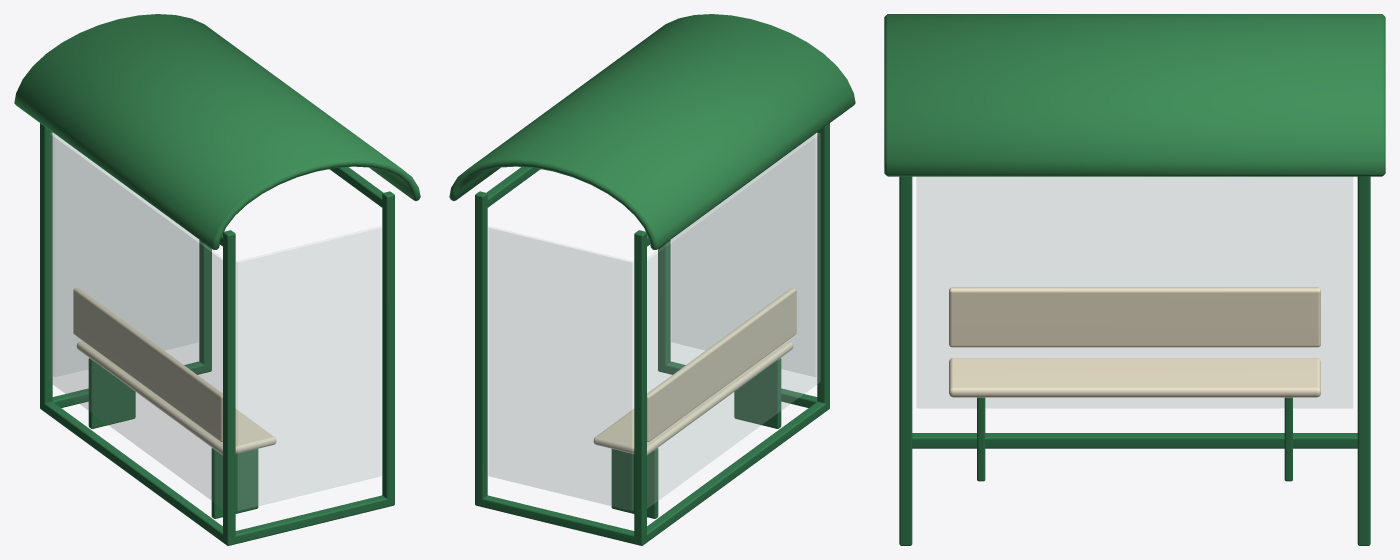
File: street_busstop.glb
The picture shows the model from 3 angles, left to right: view 1: azimuth 30°, elevation 25°; view 2: azimuth 150°, elevation 25°; view 3: azimuth 270°, elevation 25°; orthographic projection. The views are drawn at different scales.
Parts seen in each view (by area): view 1: Roof, GlassBack, GlassEnd-1.1, GlassEnd1.1, SeatBack, Post-0.5-1.1, Post0.5-1.1, Post-0.51.1, BaseBack, Seat, SeatLeg0.7, SeatLeg-0.7 (+4 smaller); view 2: Roof, GlassBack, GlassEnd1.1, GlassEnd-1.1, SeatBack, Post-0.51.1, Post0.51.1, Post-0.5-1.1, BaseBack, Seat, SeatLeg-0.7, SeatLeg0.7 (+4 smaller); view 3: Roof, GlassBack, SeatBack, Seat, BaseBack, Post0.5-1.1, Post0.51.1, SeatLeg0.7, SeatLeg-0.7.
Part boxes in pixels (x1,y1,x2,y2): Roof: [14, 14, 420, 249]; GlassBack: [49, 133, 222, 508]; GlassEnd-1.1: [236, 226, 381, 510]; GlassEnd1.1: [53, 133, 198, 376]; SeatBack: [73, 288, 222, 441]; Post-0.5-1.1: [223, 230, 235, 545]; Post0.5-1.1: [382, 191, 394, 506]; Post-0.51.1: [40, 123, 52, 410]; BaseBack: [42, 401, 223, 542]; Seat: [76, 341, 276, 455]; SeatLeg0.7: [88, 358, 135, 428]; SeatLeg-0.7: [211, 448, 258, 518]; Roof: [449, 14, 855, 249]; GlassBack: [647, 133, 820, 508]; GlassEnd1.1: [488, 226, 633, 510]; GlassEnd-1.1: [671, 133, 816, 376]; SeatBack: [647, 288, 796, 441]; Post-0.51.1: [634, 230, 646, 545]; Post0.51.1: [475, 191, 487, 506]; Post-0.5-1.1: [817, 123, 829, 410]; BaseBack: [646, 401, 826, 542]; Seat: [593, 341, 793, 455]; SeatLeg-0.7: [734, 358, 781, 428]; SeatLeg0.7: [611, 448, 658, 518]; Roof: [884, 14, 1385, 176]; GlassBack: [917, 177, 1352, 407]; SeatBack: [949, 287, 1320, 347]; Seat: [949, 358, 1320, 397]; BaseBack: [912, 433, 1357, 448]; Post0.5-1.1: [899, 176, 912, 545]; Post0.51.1: [1357, 176, 1370, 545]; SeatLeg0.7: [1284, 397, 1292, 481]; SeatLeg-0.7: [977, 397, 985, 481].
Bounding box in the file's own units: 1.4 × 2.35 × 2.33.
